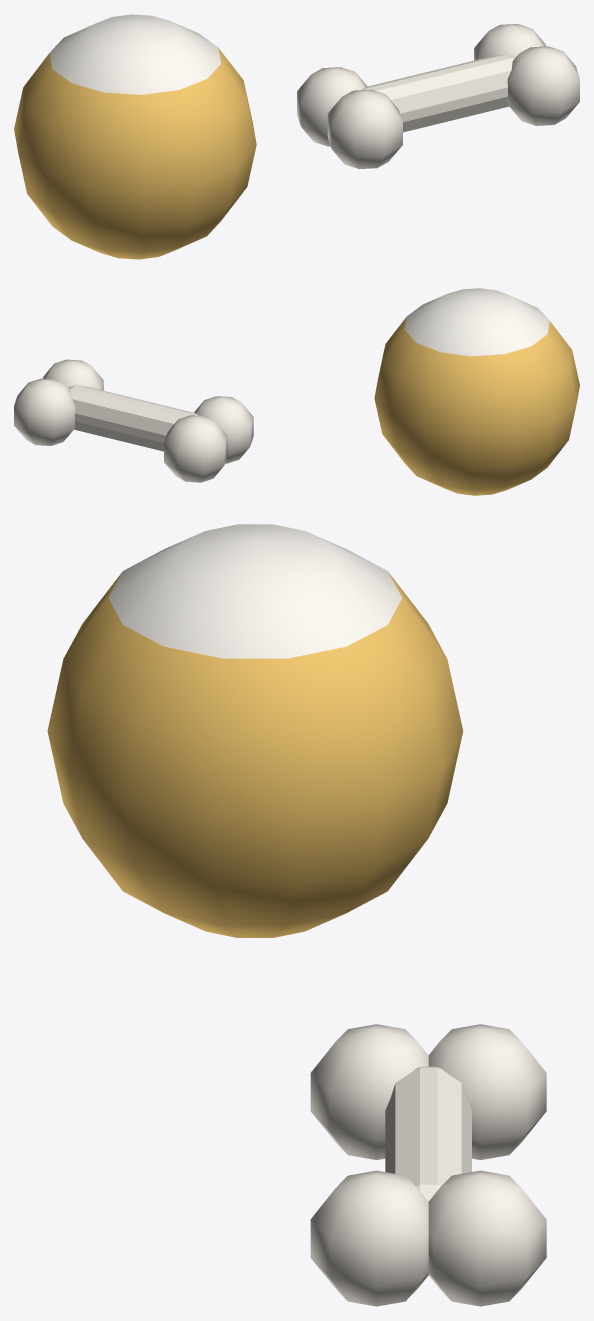
File: t_toys.gltf
3 views of the same model, one above another, from view 1: azimuth 30°, elevation 25°; view 2: azimuth 150°, elevation 25°; view 3: azimuth 270°, elevation 25° (orthographic). The views are drawn at different scales.
Parts seen in each view (by area): view 1: t_toys; view 2: t_toys; view 3: t_toys.
Boxes of the visible parts, x1,y1,x2,y2 form: t_toys: [14, 14, 579, 259]; t_toys: [14, 288, 579, 495]; t_toys: [47, 524, 546, 1306].
Size of the model in its own units: 0.655 by 0.25 by 0.288.
1 material, 1 textured.
